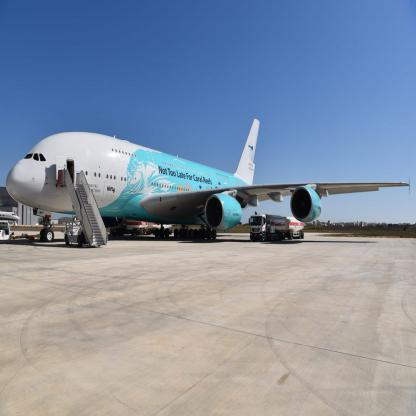CIV_Plane: (4, 113, 412, 253)
